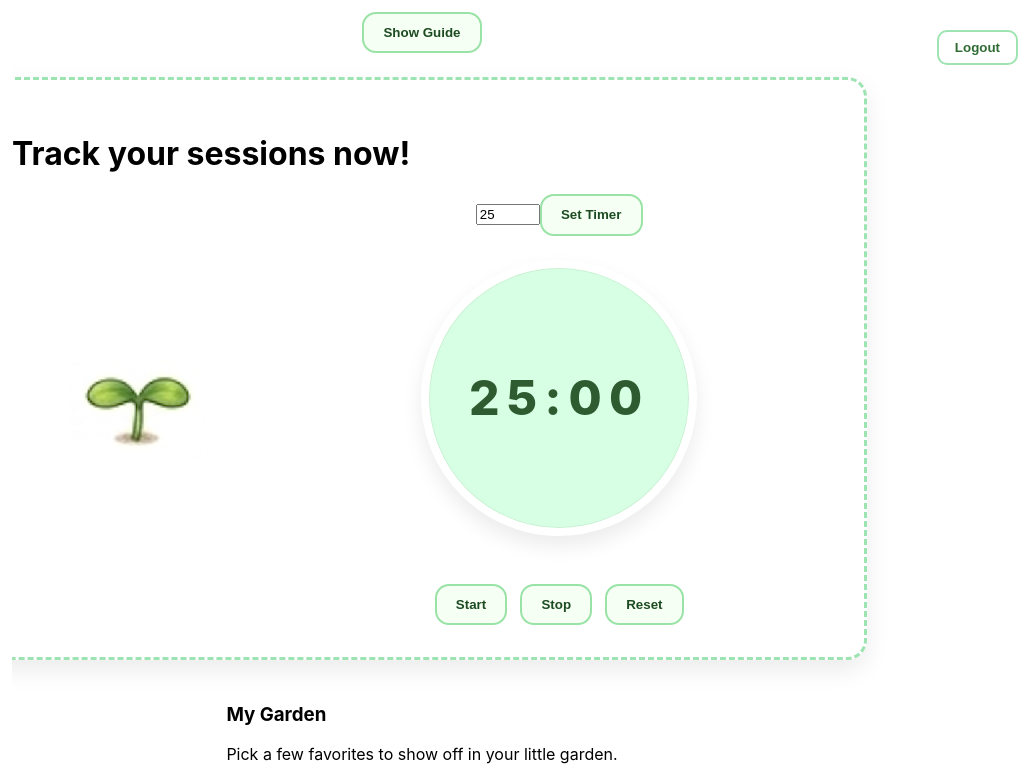
Timer › disables the duration controls while a session is running
expect the number field is enabled: met, box [476,204,540,225]
expect the button "Set Timer" is enabled: met, box [540,194,643,236]
Click the button "Start".
click(471, 604)  # box [435,584,508,625]
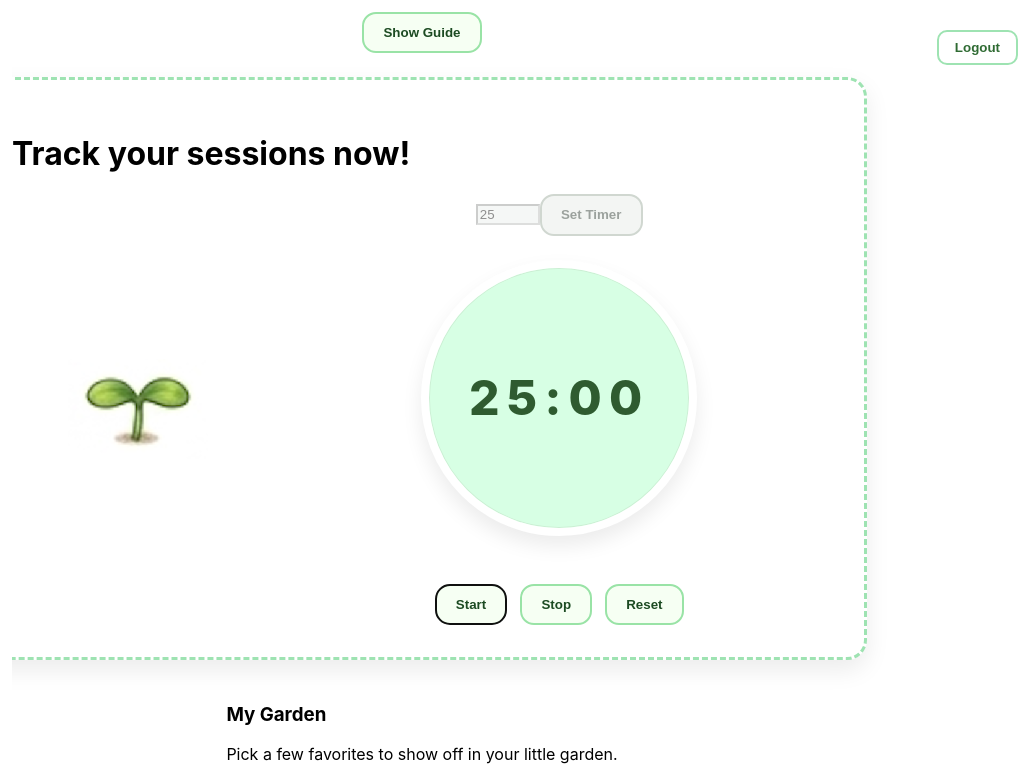
expect the number field is disabled: met, box [476,204,540,225]
expect the button "Set Timer" is disabled: met, box [540,194,643,236]
